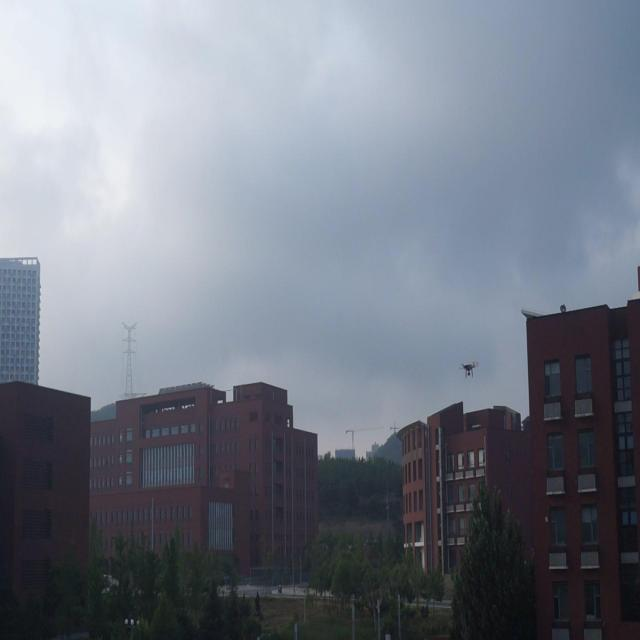UAV: (459, 361, 479, 378)
